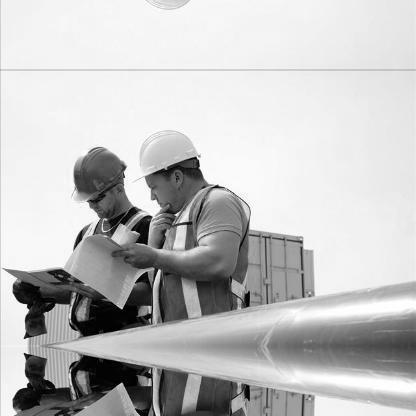helmet: (127, 118, 210, 212), (64, 141, 142, 222), (126, 0, 210, 21)
